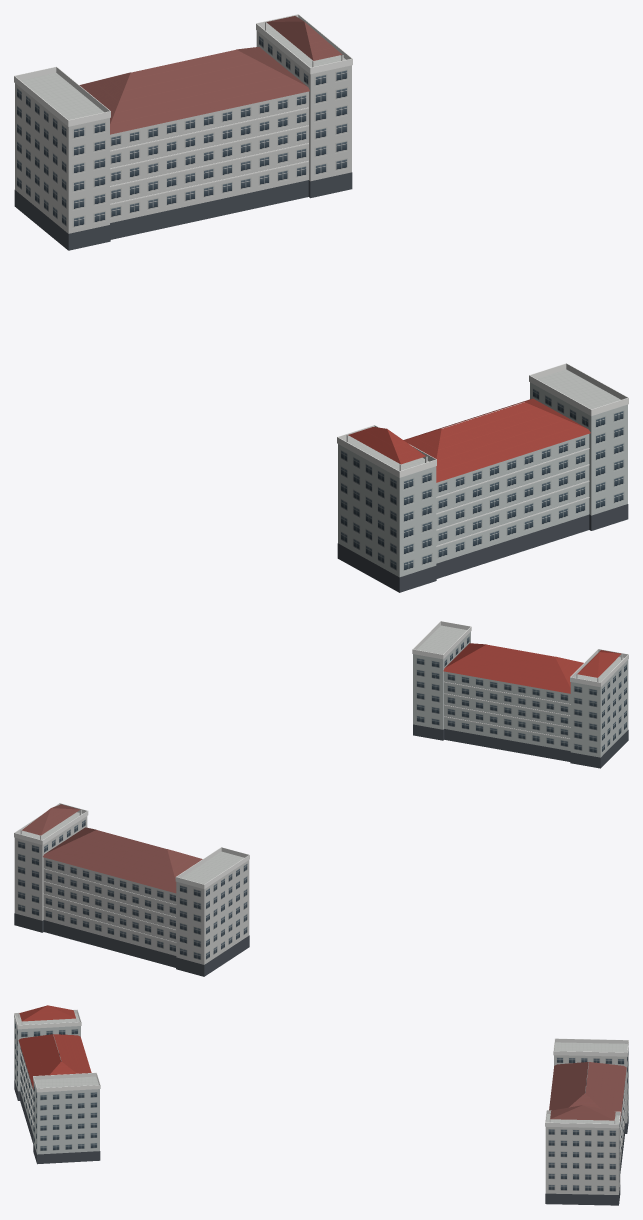
The model's file is dorm_wenyuan_a3.glb.
3 renders of one model, top to bottom at view 1: azimuth 30°, elevation 25°; view 2: azimuth 150°, elevation 25°; view 3: azimuth 270°, elevation 25°, orthographic. The views are drawn at different scales.
Visible parts, largest first — view 1: 862959384, 862959386; view 2: 862959384, 862959386; view 3: 862959384, 862959386.
Boxes of the visible parts, x1=… form: 862959384: x1=14, y1=14, x2=352, y2=250; 862959386: x1=337, y1=363, x2=628, y2=592; 862959384: x1=14, y1=803, x2=249, y2=976; 862959386: x1=412, y1=621, x2=628, y2=768; 862959384: x1=545, y1=1038, x2=628, y2=1205; 862959386: x1=14, y1=1005, x2=100, y2=1164.
Size of the model in its own units: 78.34 by 28.4 by 169.
Materials: 4 (3 with a texture image).
